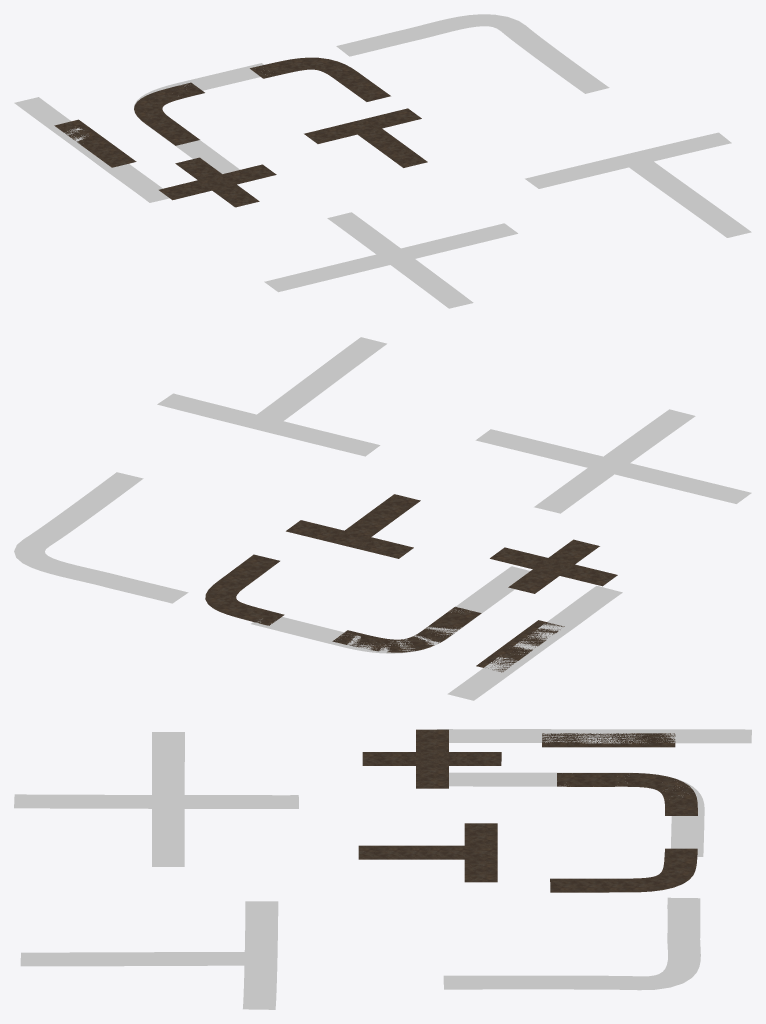
The model's file is dirt_road.fbx.
3 renders of one model, top to bottom at view 1: azimuth 30°, elevation 25°; view 2: azimuth 150°, elevation 25°; view 3: azimuth 270°, elevation 25°, orthographic. The views are drawn at different scales.
Parts seen in each view (by area): view 1: BézierCurve, dirt_road_xjunction, dirt_road_tjunction, dirt_road_left, dirt_road_right, dirt_road_straight; view 2: BézierCurve, dirt_road_tjunction, dirt_road_xjunction, dirt_road_left, dirt_road_right, dirt_road_straight; view 3: BézierCurve, dirt_road_tjunction, dirt_road_xjunction, dirt_road_left, dirt_road_right, dirt_road_straight.
Boxes of the visible parts, x1=… form: BézierCurve: x1=14, y1=14, x2=751, y2=308; dirt_road_xjunction: x1=159, y1=157, x2=276, y2=207; dirt_road_tjunction: x1=304, y1=108, x2=427, y2=167; dirt_road_left: x1=250, y1=57, x2=390, y2=101; dirt_road_right: x1=134, y1=82, x2=204, y2=145; dirt_road_straight: x1=54, y1=119, x2=136, y2=167; BézierCurve: x1=14, y1=337, x2=751, y2=700; dirt_road_tjunction: x1=286, y1=494, x2=420, y2=558; dirt_road_xjunction: x1=490, y1=539, x2=617, y2=593; dirt_road_left: x1=205, y1=554, x2=284, y2=625; dirt_road_right: x1=332, y1=606, x2=481, y2=652; dirt_road_straight: x1=476, y1=620, x2=564, y2=672; BézierCurve: x1=14, y1=729, x2=751, y2=1009; dirt_road_tjunction: x1=358, y1=823, x2=497, y2=882; dirt_road_xjunction: x1=362, y1=729, x2=501, y2=788; dirt_road_left: x1=550, y1=848, x2=697, y2=892; dirt_road_right: x1=557, y1=773, x2=697, y2=815; dirt_road_straight: x1=542, y1=733, x2=675, y2=747.
Size of the model in its own units: 12419 by 144 by 13790.
Materials: 6 (5 with a texture image).
